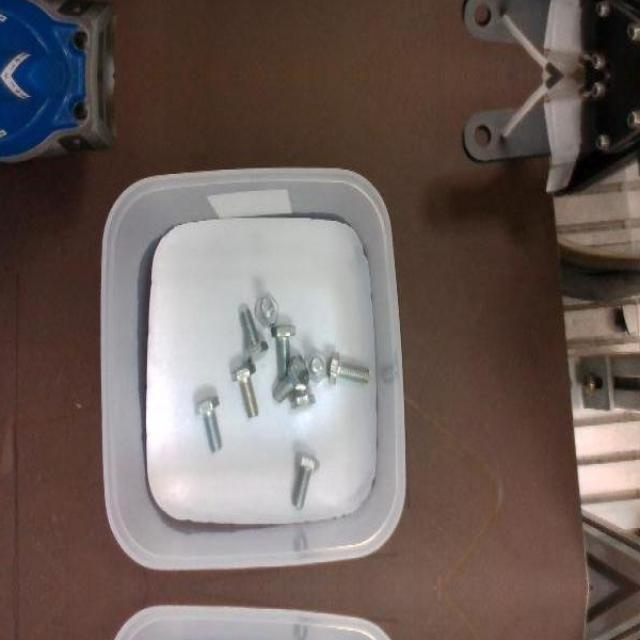screw: (272, 357, 309, 403), (194, 396, 223, 453), (230, 363, 260, 418), (240, 307, 270, 361), (293, 451, 321, 508), (328, 351, 369, 385), (271, 324, 295, 378), (256, 294, 279, 327)
